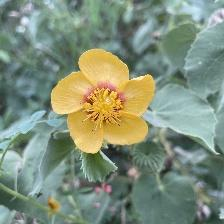indian mallow: (49, 48, 158, 157)
